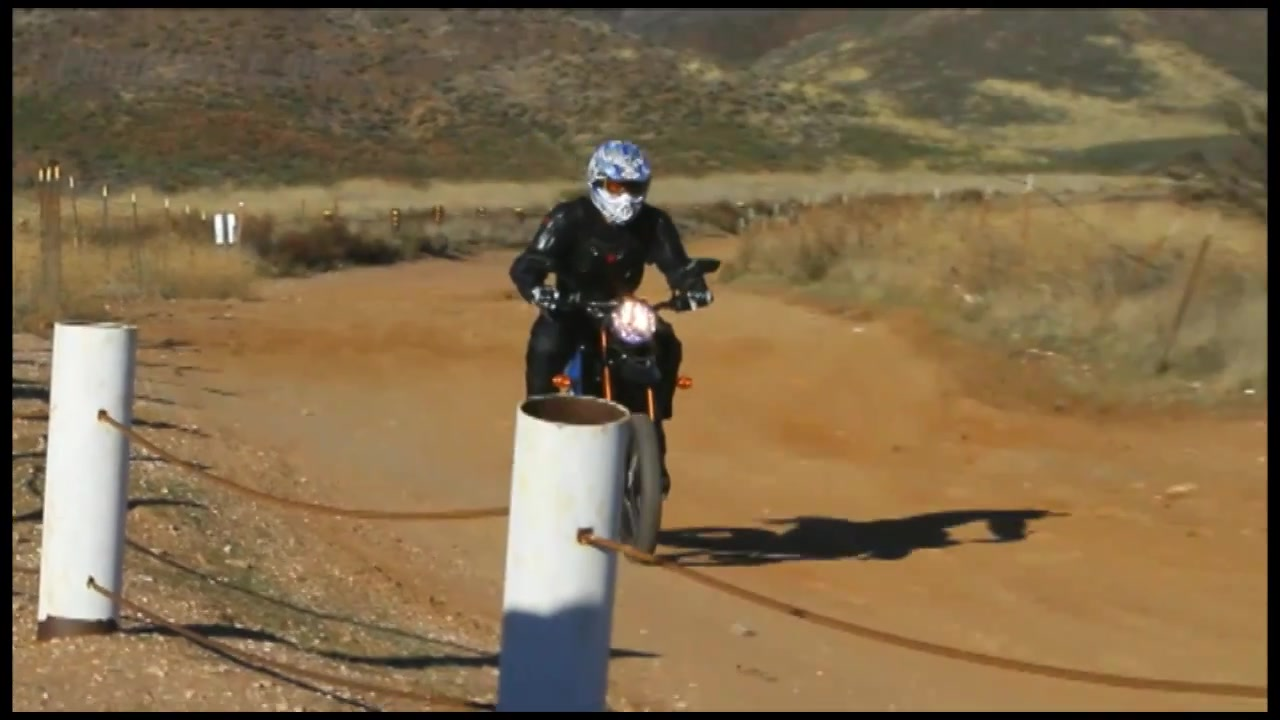motorbike: (531, 260, 716, 576)
